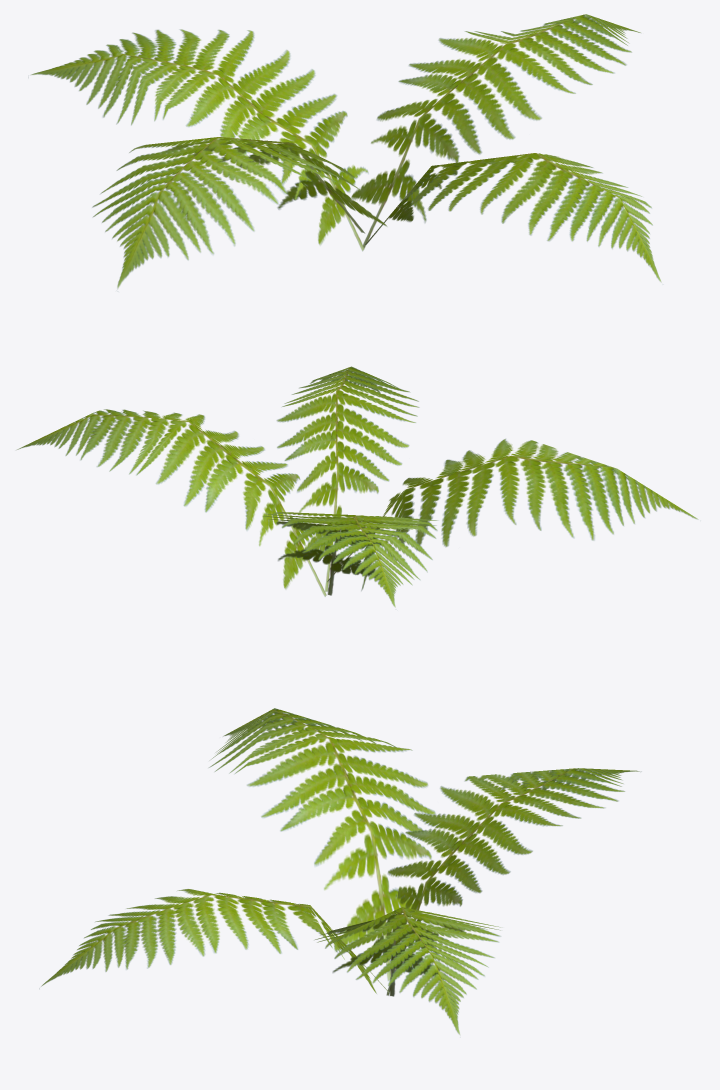
Rendered from fern_02.glb.
3 renders of one model, top to bottom at view 1: azimuth 30°, elevation 25°; view 2: azimuth 150°, elevation 25°; view 3: azimuth 270°, elevation 25°, orthographic. The views are drawn at different scales.
Visible parts, largest first — view 1: ferns 2; view 2: ferns 2; view 3: ferns 2.
Boxes of the visible parts, x1,y1,x2,y2 form: ferns 2: (28, 14, 663, 291); ferns 2: (17, 366, 698, 607); ferns 2: (39, 708, 641, 1037).
Bounding box in the file's own units: 0.6586 × 0.1926 × 0.5674.
1 material, 1 textured.
